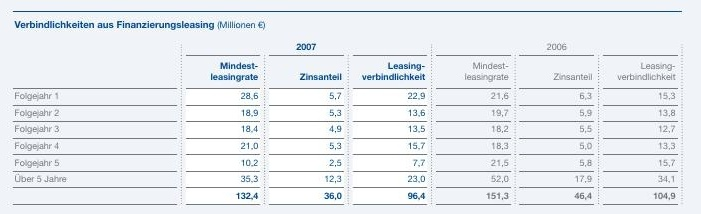table: (0, 0, 701, 214)
